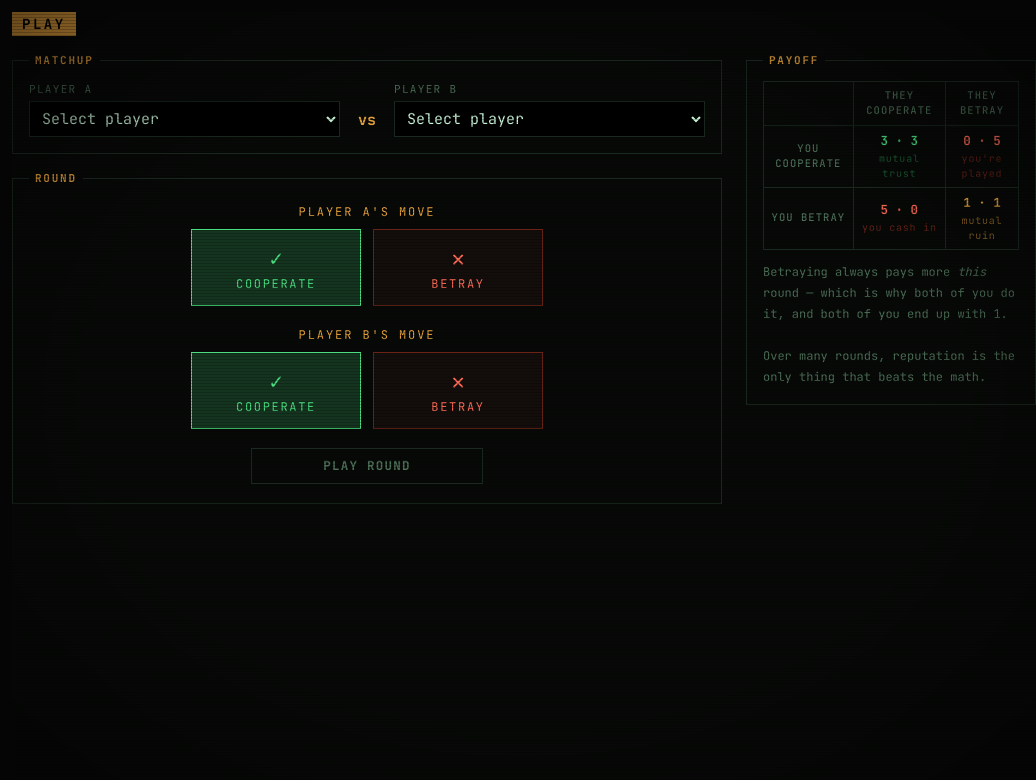
Test: PlayPage › shows an error message when playRound fails
Select "Chris" in the dropdown labelled "Player A" at (184,119), box [29,101,340,137]
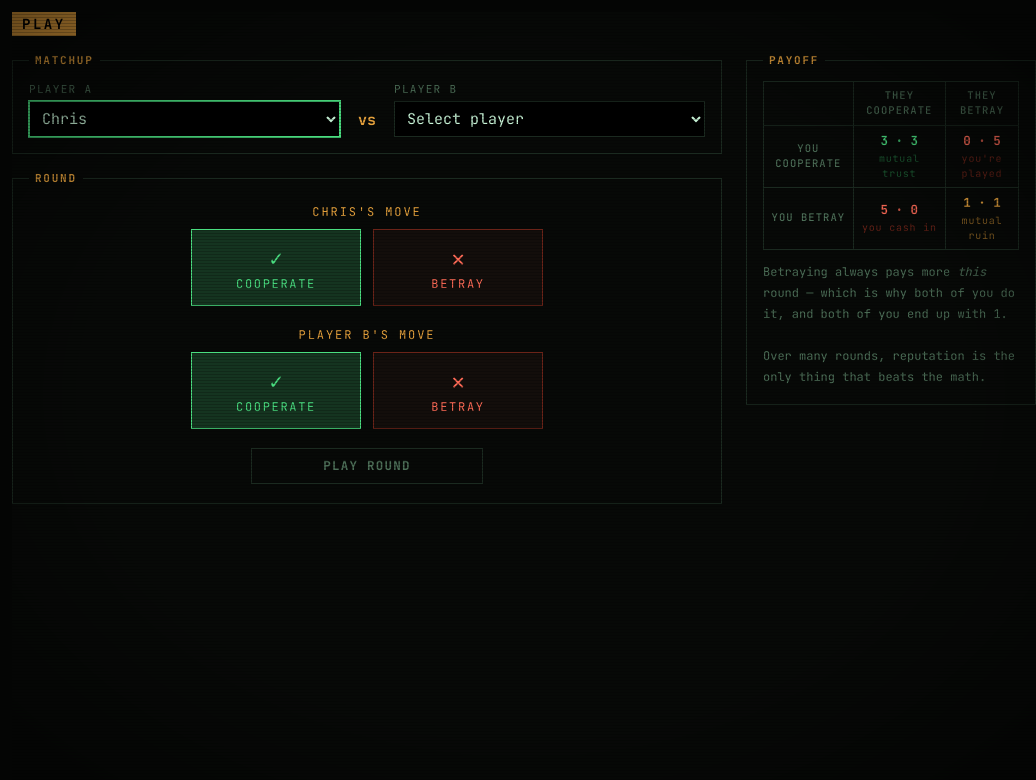
Select "Pepper" in the dropdown labelled "Player B" at (550,119), box [394,101,705,137]
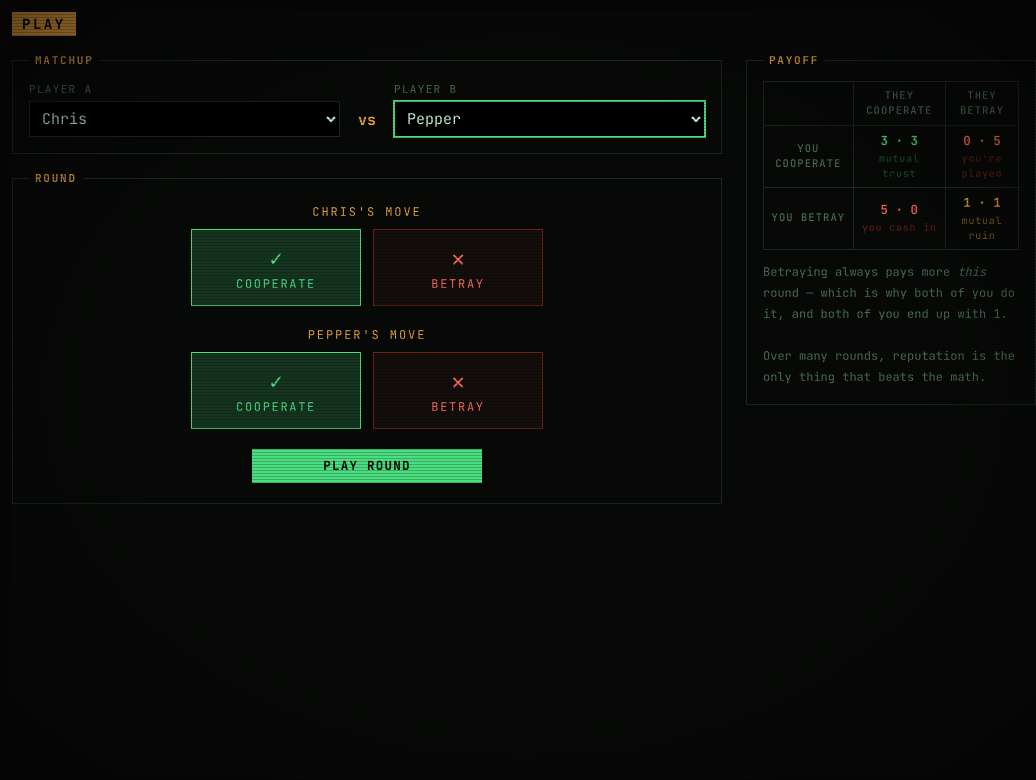
Click the button "Play round" at (367,466), box [252,448,482,483]
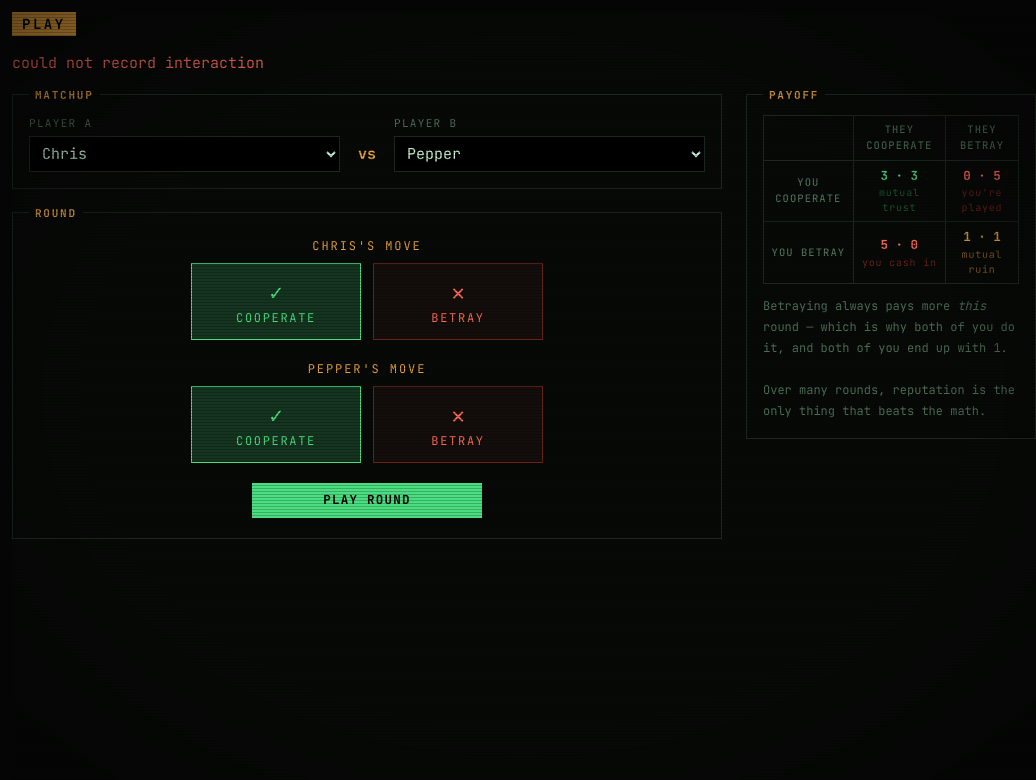
Now the text "could not record interaction" is shown, box [12,53,264,73]
